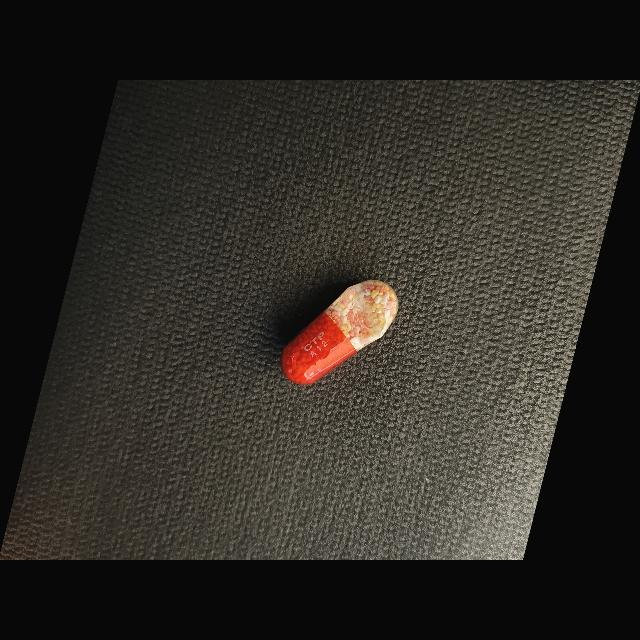Defective Capsule: (280, 280, 399, 385)
